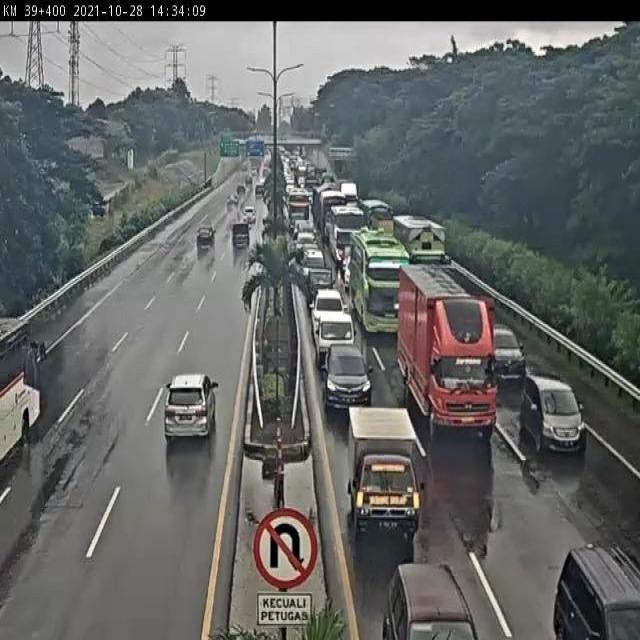big bus: (0, 318, 46, 478), (350, 229, 411, 335), (330, 208, 366, 265), (319, 194, 345, 238), (286, 190, 312, 230)
car: (343, 410, 423, 542), (554, 526, 640, 638), (520, 374, 584, 454), (164, 375, 218, 441), (321, 340, 372, 404), (482, 318, 520, 382), (314, 314, 357, 366), (309, 292, 348, 331), (303, 269, 336, 304), (228, 225, 250, 255), (194, 231, 215, 256), (303, 250, 328, 270), (342, 252, 357, 285), (297, 234, 317, 258), (293, 218, 316, 238)
truck-l-: (402, 269, 498, 428), (392, 216, 453, 292)
